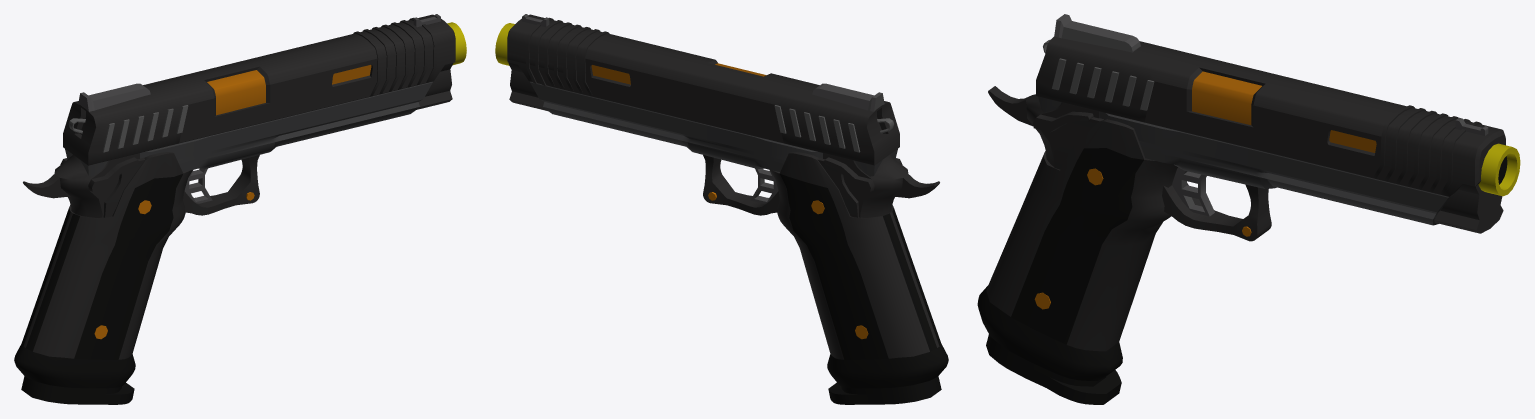
File: Tarran_Tactical_Mesh.fbx
3 views of the same model, side by side, from view 1: azimuth 30°, elevation 25°; view 2: azimuth 150°, elevation 25°; view 3: azimuth 330°, elevation 25° (orthographic). The views are drawn at different scales.
Parts seen in each view (by area): view 1: Tarran_Tactical; view 2: Tarran_Tactical; view 3: Tarran_Tactical.
Part boxes in pixels (<box>): Tarran_Tactical: <box>14,14,466,404</box>; Tarran_Tactical: <box>495,14,948,404</box>; Tarran_Tactical: <box>977,14,1520,404</box>.
Size of the model in its own units: 0.2653 by 0.1777 by 0.036.
